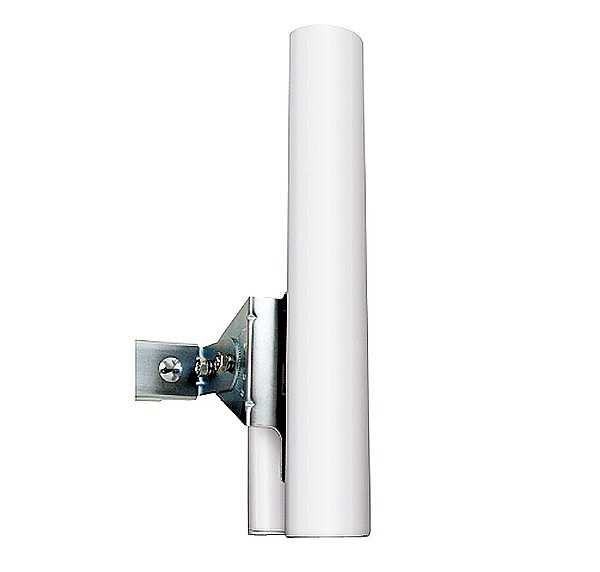sa: (222, 10, 400, 549)
